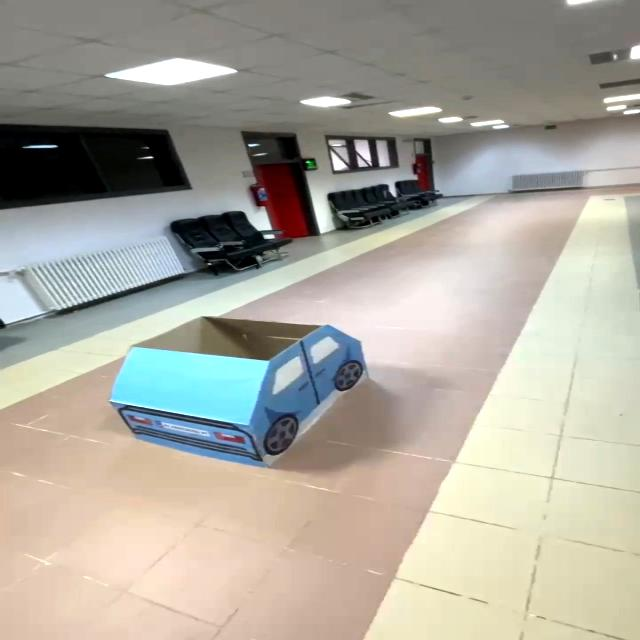blue_car: (92, 304, 404, 480)
